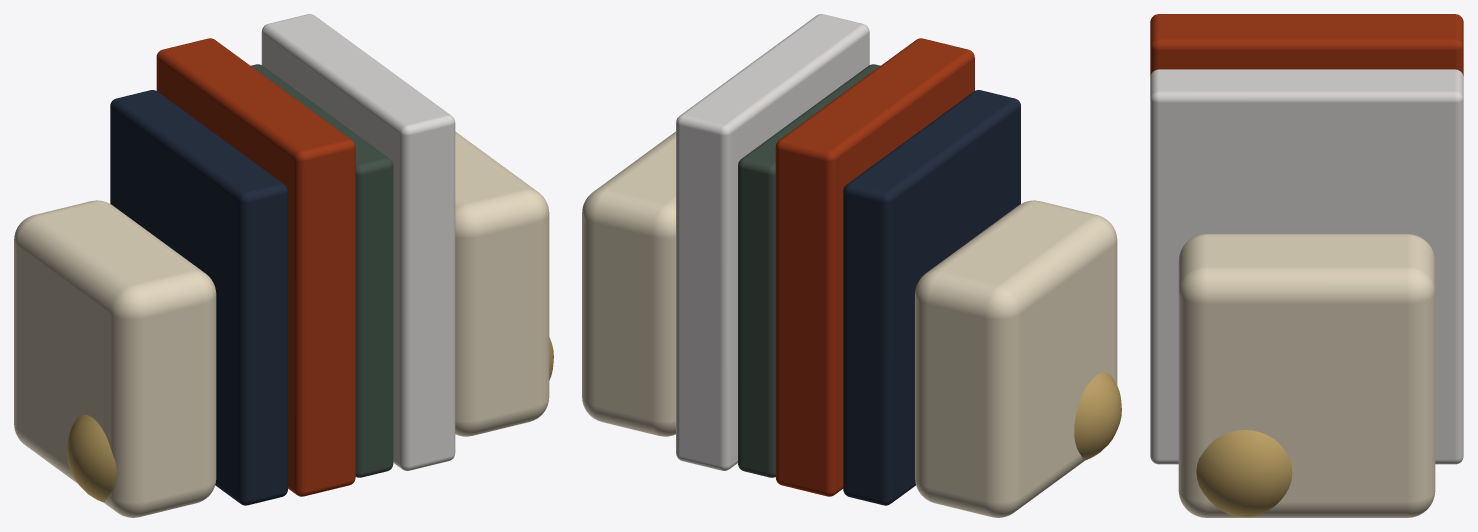
File: atelier-decor-bookends-heritage.glb
3 views of the same model, side by side, from view 1: azimuth 30°, elevation 25°; view 2: azimuth 150°, elevation 25°; view 3: azimuth 270°, elevation 25° (orthographic). The views are drawn at different scales.
Size of the model in its own units: 0.332 by 0.232 by 0.177.
